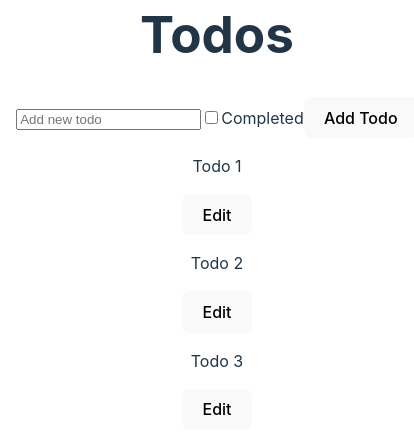
Todos Component › updates the first todo when Save button is clicked
The width and height of the screenshot is (414, 432).
Click the first edit button
Click the button "Edit" below "Todo 1". click: (217,215)
box: [182,194,252,236]
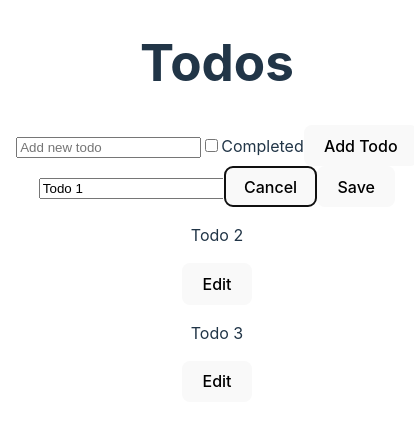
Clear and type a new value
Replace the text in the field showing "Todo 1" with "Updated Todo 1". click: (131,188)
box: [39,178,224,199]
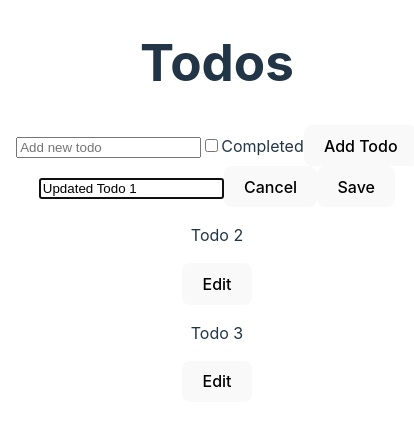
Click the button "Save". click: (356,187)
box: [317,166,395,208]
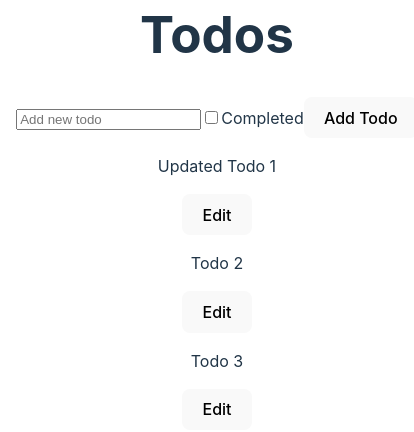
Expected: the text "Updated Todo 1" is shown, [158,156,276,176]
